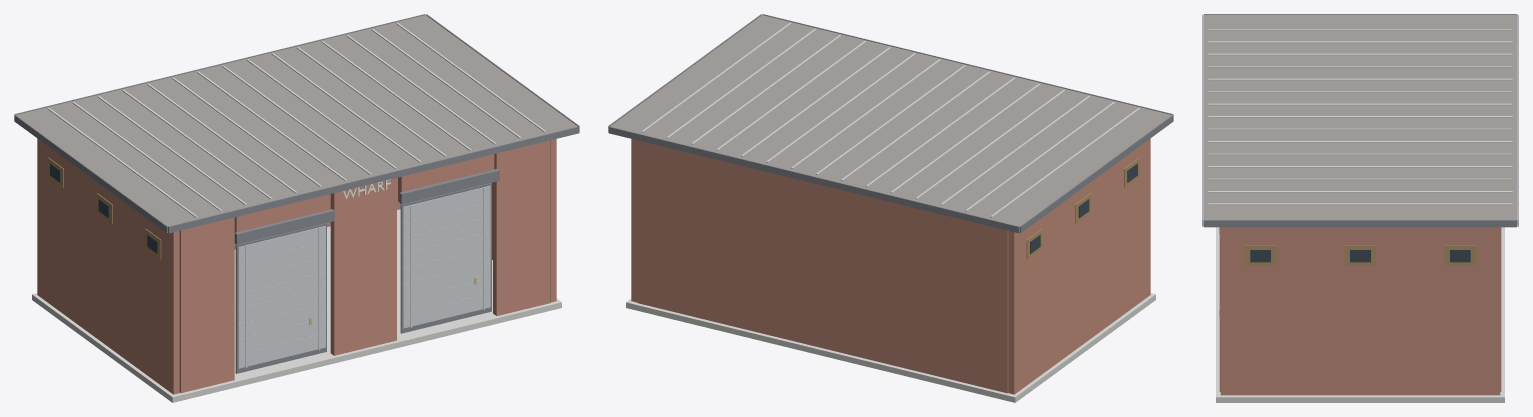
The model's file is HarborWarehouse.fbx.
3 views of the same model, side by side, from view 1: azimuth 30°, elevation 25°; view 2: azimuth 150°, elevation 25°; view 3: azimuth 270°, elevation 25° (orthographic). The views are drawn at different scales.
Visible parts, largest first — view 1: LOD0; view 2: LOD0; view 3: LOD0.
Part boxes in pixels (bbox=[...]): LOD0: bbox=[14, 14, 579, 402]; LOD0: bbox=[608, 14, 1173, 402]; LOD0: bbox=[1202, 14, 1518, 402].
Size of what is drawn, in the model's own units: 1077 by 459 by 697.
